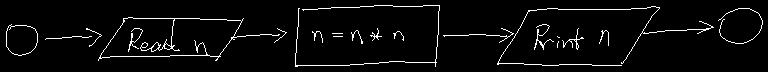arrow: (45, 28, 101, 46), (443, 28, 513, 42), (643, 21, 713, 33), (231, 28, 286, 42)
connection: (718, 8, 762, 43), (6, 24, 37, 55)
data: (497, 6, 659, 65), (98, 17, 243, 60)
process: (295, 5, 439, 66)
text: (128, 18, 207, 55), (534, 24, 608, 49), (312, 28, 403, 43)
